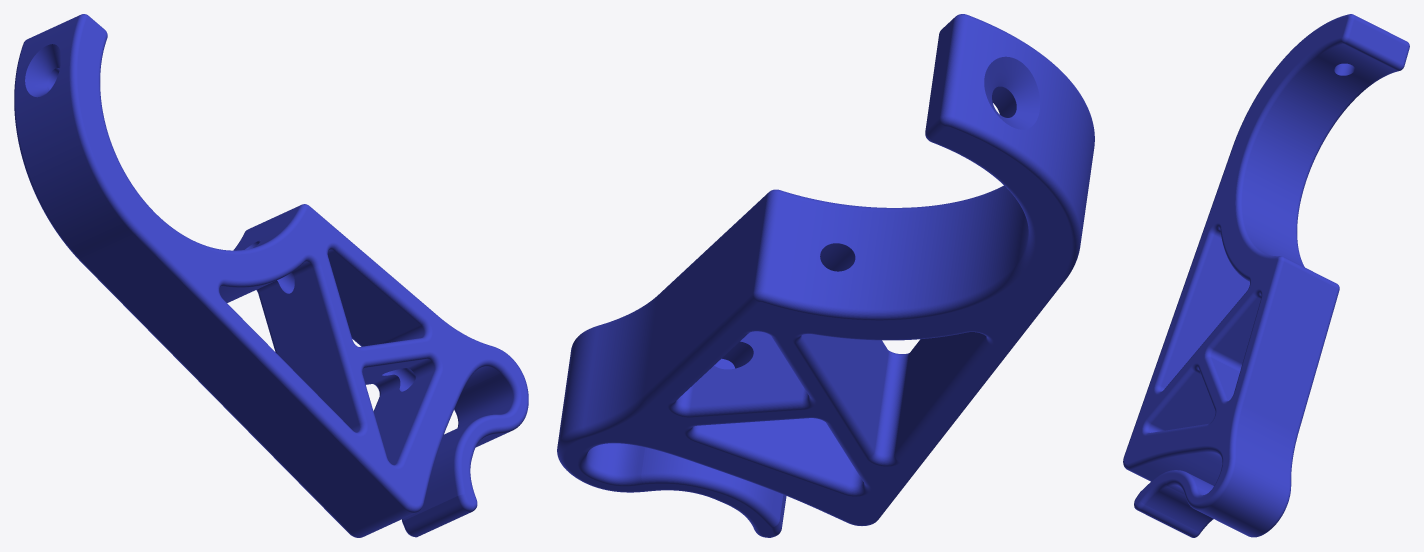
File: rodadapt.glb
3 renders of one model, left to right at view 1: azimuth 30°, elevation 25°; view 2: azimuth 150°, elevation 25°; view 3: azimuth 270°, elevation 25°, orthographic. The views are drawn at different scales.
Bounding box in the file's own units: 0.0628 × 0.071 × 0.0433.
